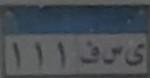1: (53, 40, 68, 71), (11, 39, 23, 71), (33, 40, 46, 69)
س: (99, 41, 123, 70)
ف: (81, 37, 100, 65)
ي: (124, 42, 145, 70)
